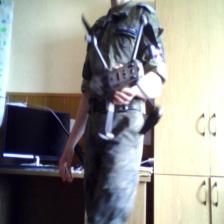drone: (79, 17, 167, 147)
